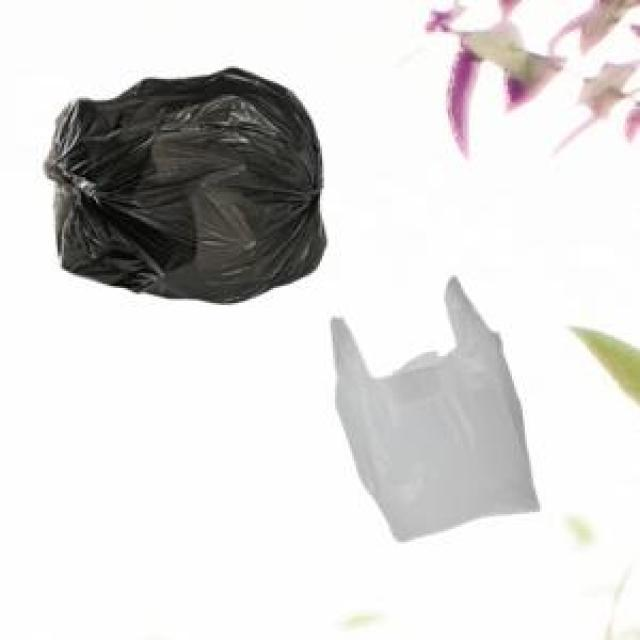miscellaneous trash: (41, 64, 322, 299)
